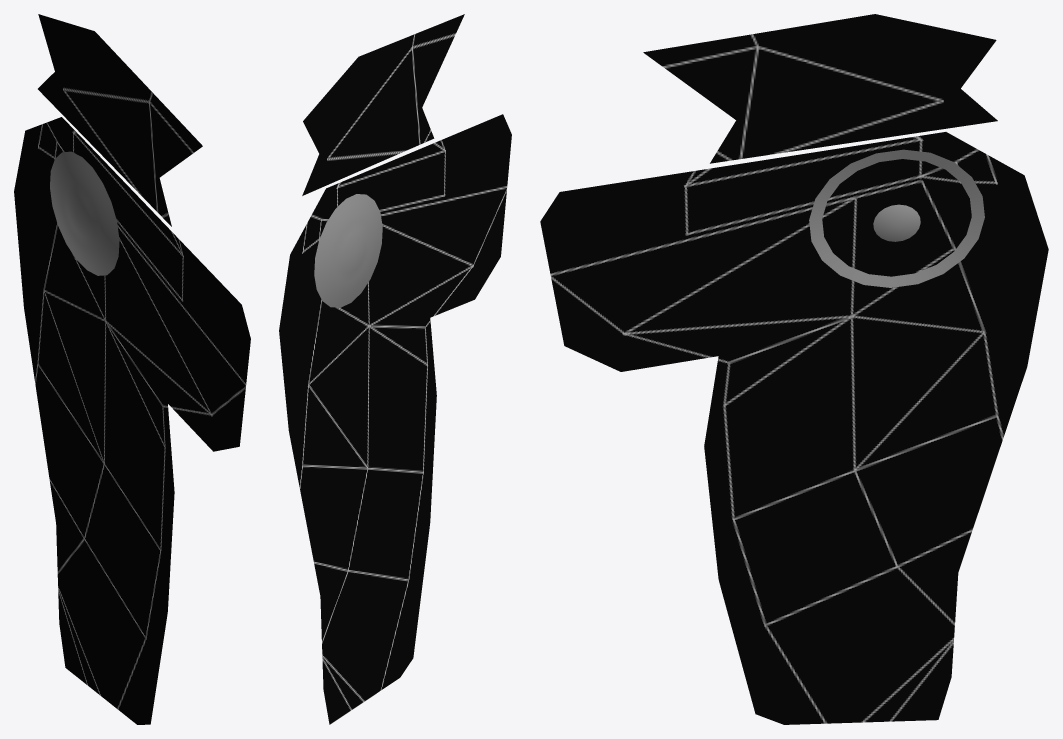
The model's file is Crew.fbx.
3 views of the same model, side by side, from view 1: azimuth 30°, elevation 25°; view 2: azimuth 150°, elevation 25°; view 3: azimuth 270°, elevation 25° (orthographic). The views are drawn at different scales.
Parts seen in each view (by area): view 1: Body, Eye; view 2: Body, Eye; view 3: Body, Eye.
Part boxes in pixels (x1=…): Body: x1=14, y1=14, x2=250, y2=724; Eye: x1=50, y1=151, x2=119, y2=275; Body: x1=279, y1=14, x2=511, y2=724; Eye: x1=314, y1=194, x2=382, y2=307; Body: x1=540, y1=14, x2=1048, y2=724; Eye: x1=809, y1=149, x2=984, y2=287.
Size of the model in its own units: 1.47 by 39.11 by 25.35.
